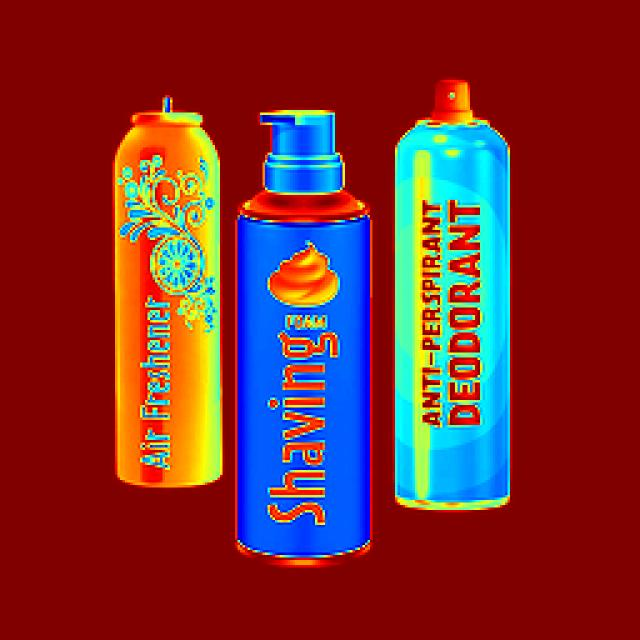Aerosol Cans: (235, 100, 383, 578), (389, 75, 518, 519), (97, 96, 222, 480)
